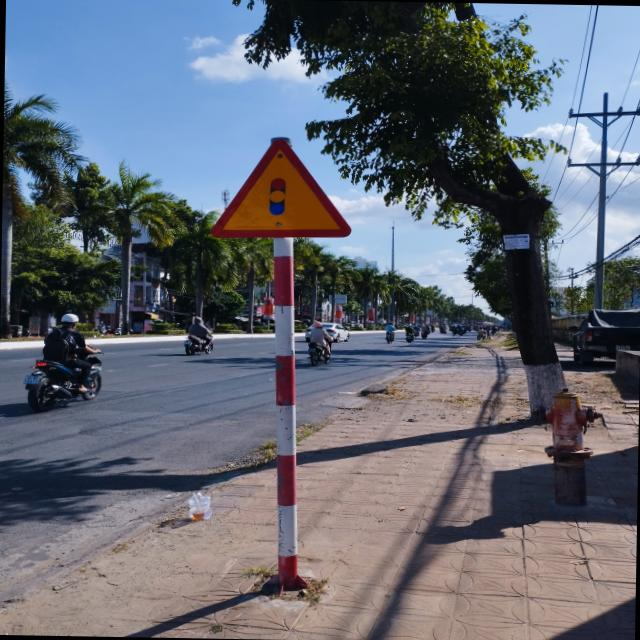Duong_Co_Go_Giam_Toc: (209, 137, 352, 239)
